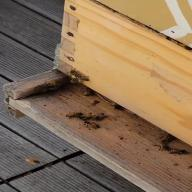Bee: (64, 106, 108, 135)
